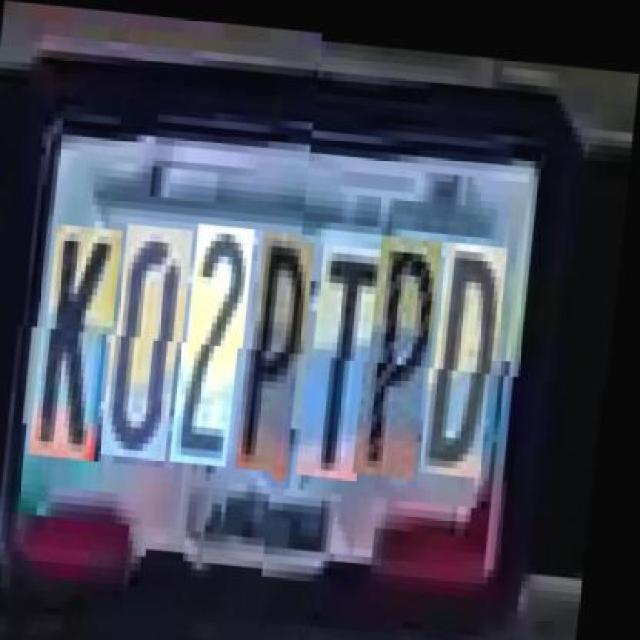0: (113, 228, 198, 464)
2: (183, 226, 259, 469)
d: (432, 231, 512, 467)
k: (42, 229, 127, 466)
p: (366, 226, 446, 469), (248, 232, 320, 474)
t: (310, 236, 388, 472)
